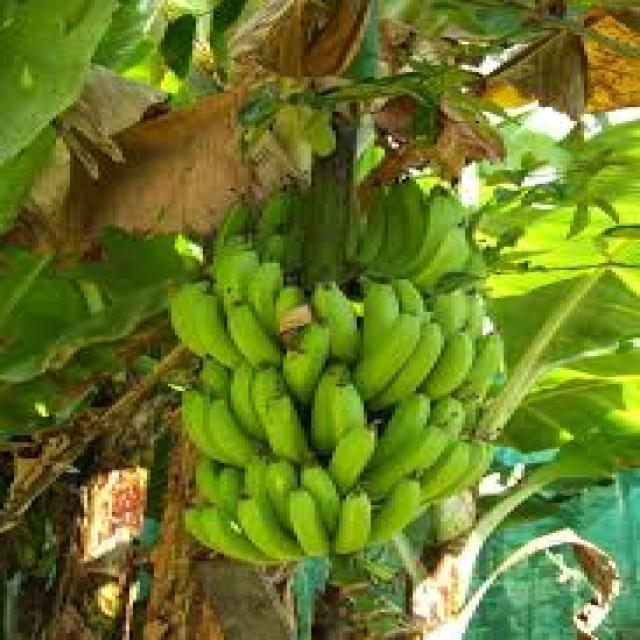banana: (164, 126, 503, 570)
